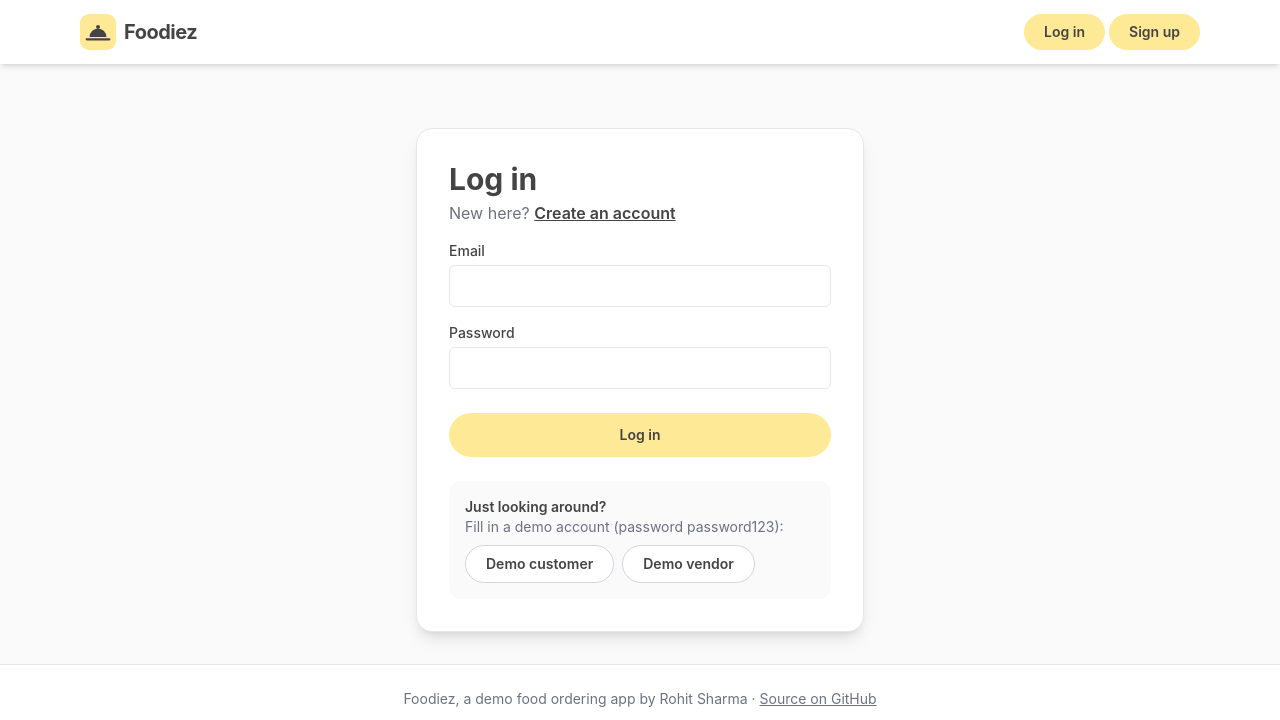
login page › shows the API's error message
The width and height of the screenshot is (1280, 720).
Type "customer@foodiez.dev" into the field labelled "Email" at (640, 286), box [449, 265, 831, 307]
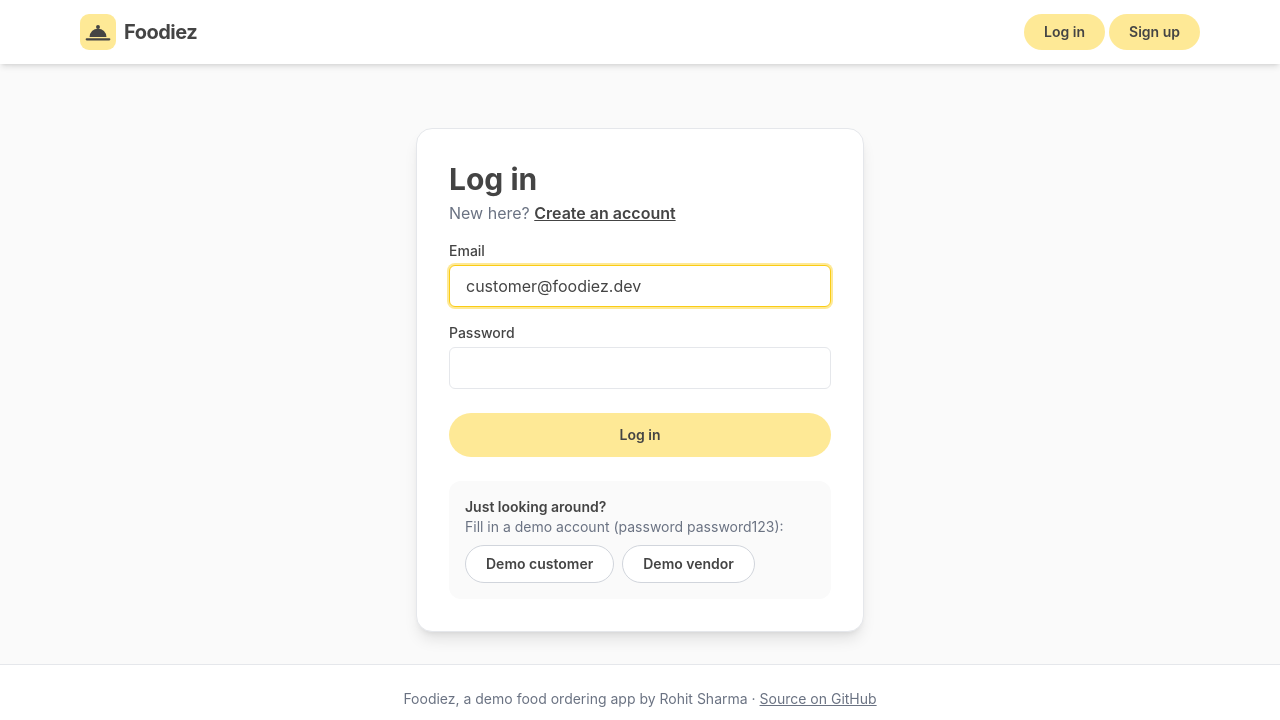
Type "wrong-password" into the password field labelled "Password" at (640, 368), box [449, 347, 831, 389]
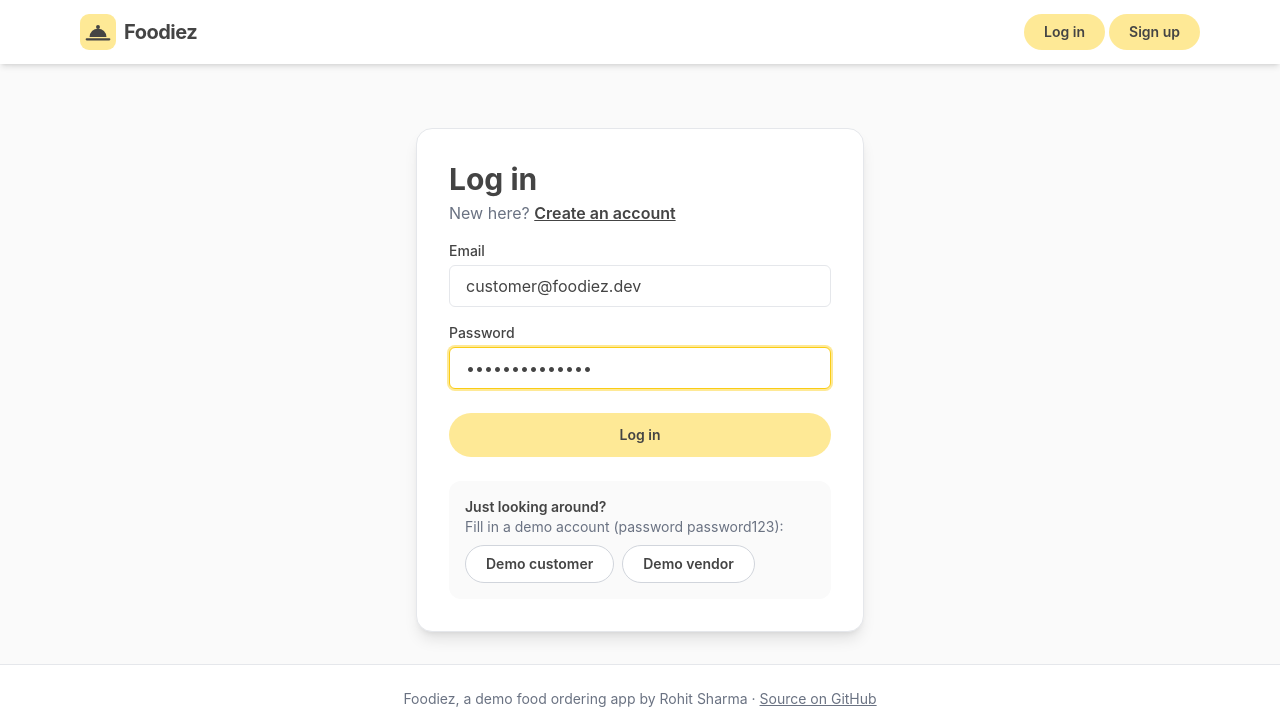
Click the button "Log in" at (640, 435), box [449, 413, 831, 457]
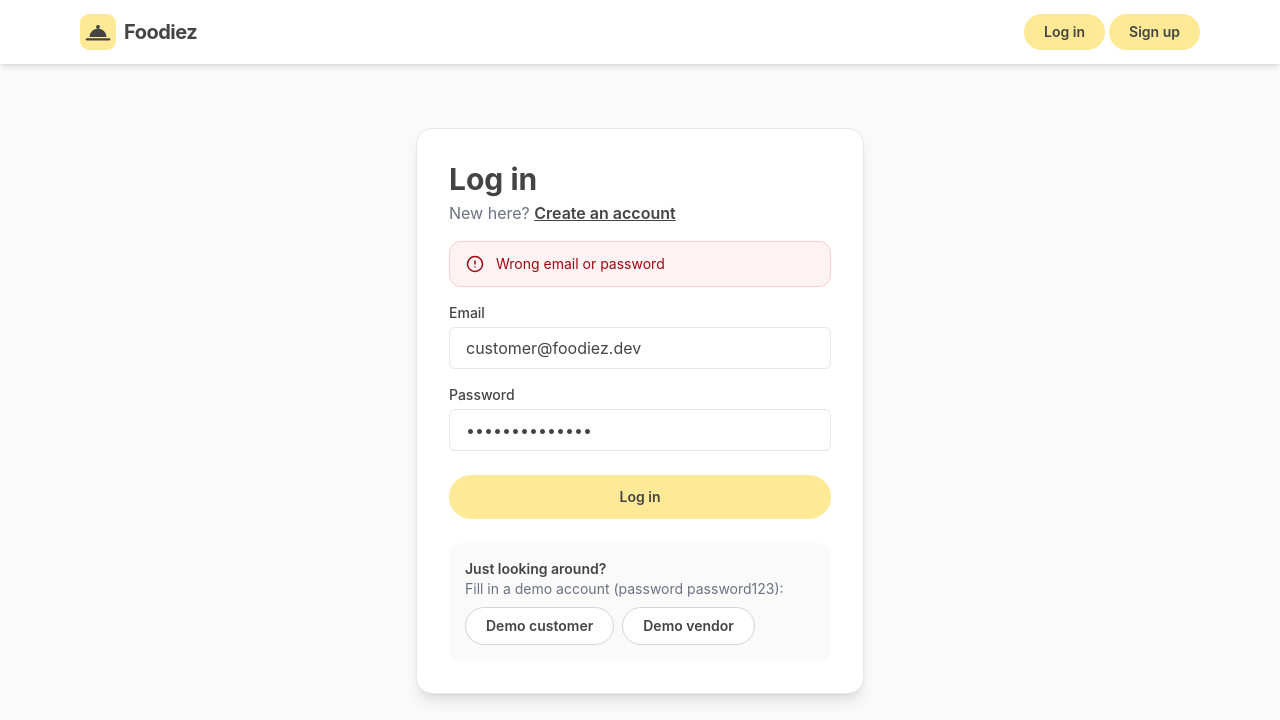
Expected: the message reads "Wrong email or password", [496, 255, 665, 272]
